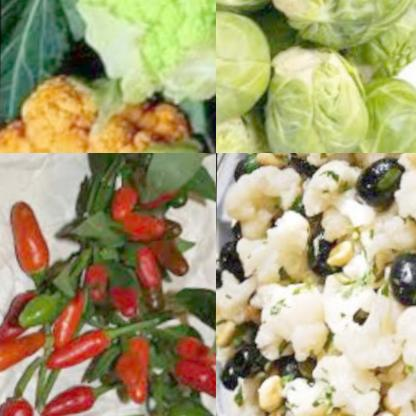brus capusta: (275, 50, 377, 153), (296, 72, 416, 153), (216, 0, 287, 131), (261, 0, 416, 49), (216, 66, 292, 153), (384, 0, 416, 79)
cayliflower: (0, 52, 216, 153), (227, 161, 322, 366), (66, 0, 216, 108), (278, 299, 416, 416), (319, 167, 416, 276), (278, 153, 416, 182)
hot pepper: (5, 197, 54, 287), (167, 320, 216, 406), (140, 218, 197, 283), (42, 338, 119, 383), (44, 291, 93, 361), (109, 344, 160, 411), (86, 270, 142, 326), (0, 286, 42, 349), (0, 326, 49, 378), (33, 383, 106, 416), (118, 215, 170, 255), (96, 189, 142, 232), (131, 246, 166, 299), (0, 391, 34, 416)
